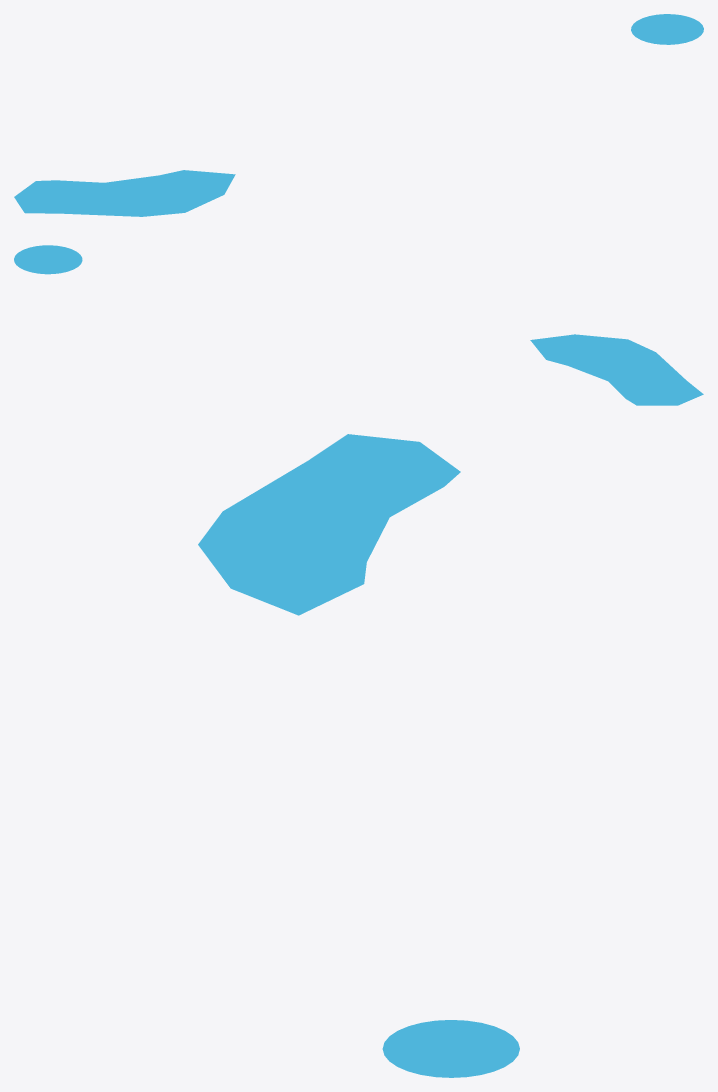
Rendered from lake.fbx.
3 renders of one model, top to bottom at view 1: azimuth 30°, elevation 25°; view 2: azimuth 150°, elevation 25°; view 3: azimuth 270°, elevation 25°, orthographic. The views are drawn at different scales.
Visible parts, largest first — view 1: lake, 水面; view 2: lake, 水面; view 3: lake, 水面.
Boxes of the visible parts, x1=… form: lake: x1=14, y1=170, x2=235, y2=216; 水面: x1=631, y1=14, x2=703, y2=44; lake: x1=530, y1=334, x2=703, y2=405; 水面: x1=14, y1=245, x2=82, y2=274; lake: x1=198, y1=434, x2=460, y2=615; 水面: x1=382, y1=1020, x2=519, y2=1077.
Bounding box in the file's own units: 2689 × 0.2001 × 568.
